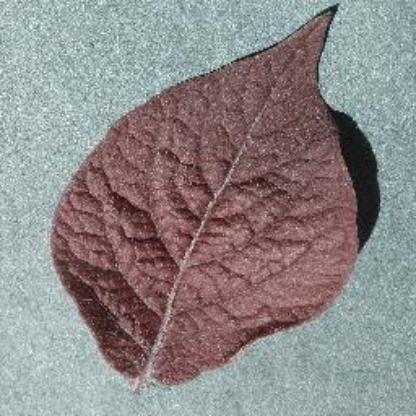Healthy-plant: (47, 6, 374, 398)
